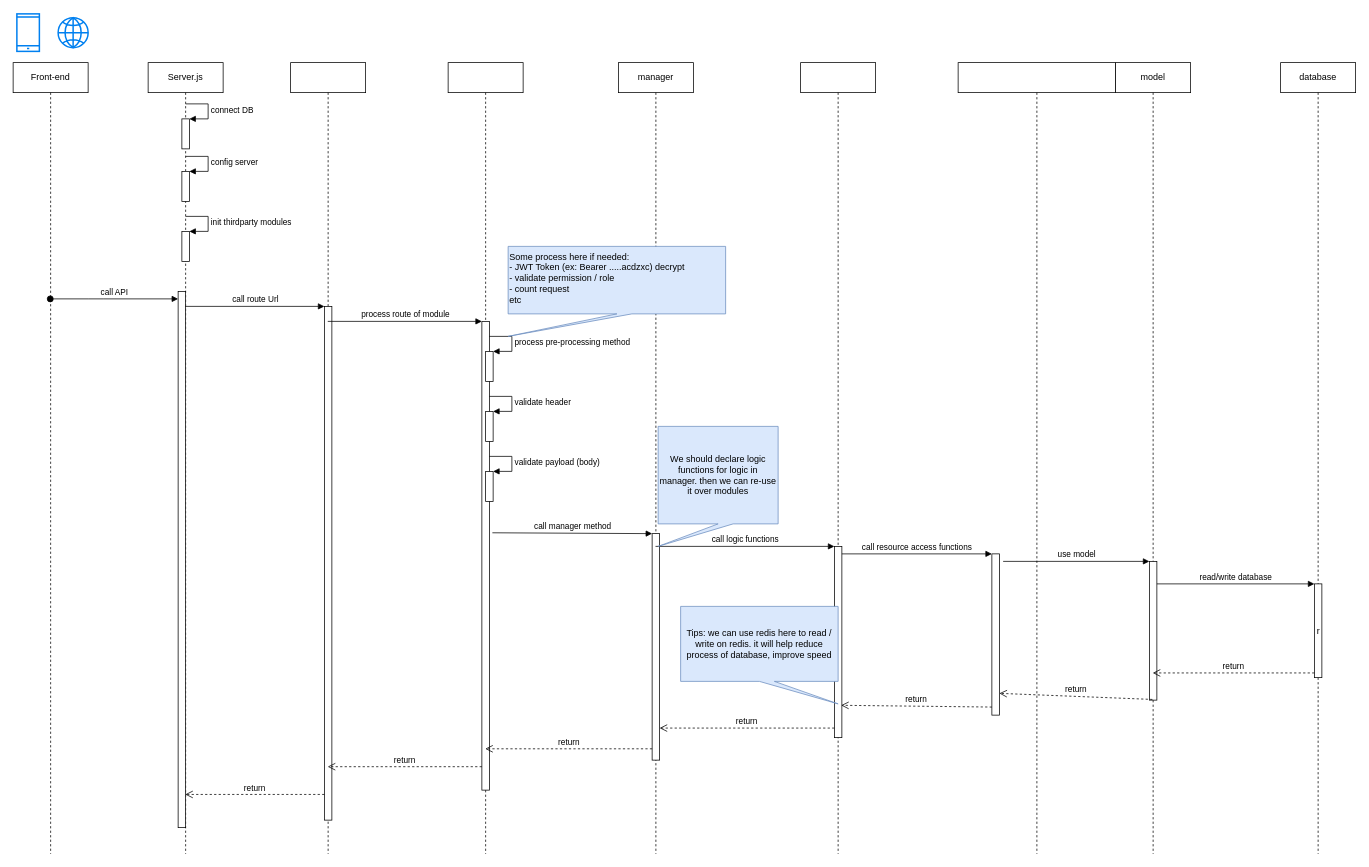
Image size: 1369x867. Some labels were removed from this diagram. Here are the shapes that lost their labels. From the top down, the box of each, then its label:
(290, 62, 366, 854): config/routes
(447, 62, 523, 854): route
(800, 62, 876, 854): functions
(957, 62, 1116, 854): resourceAccess
